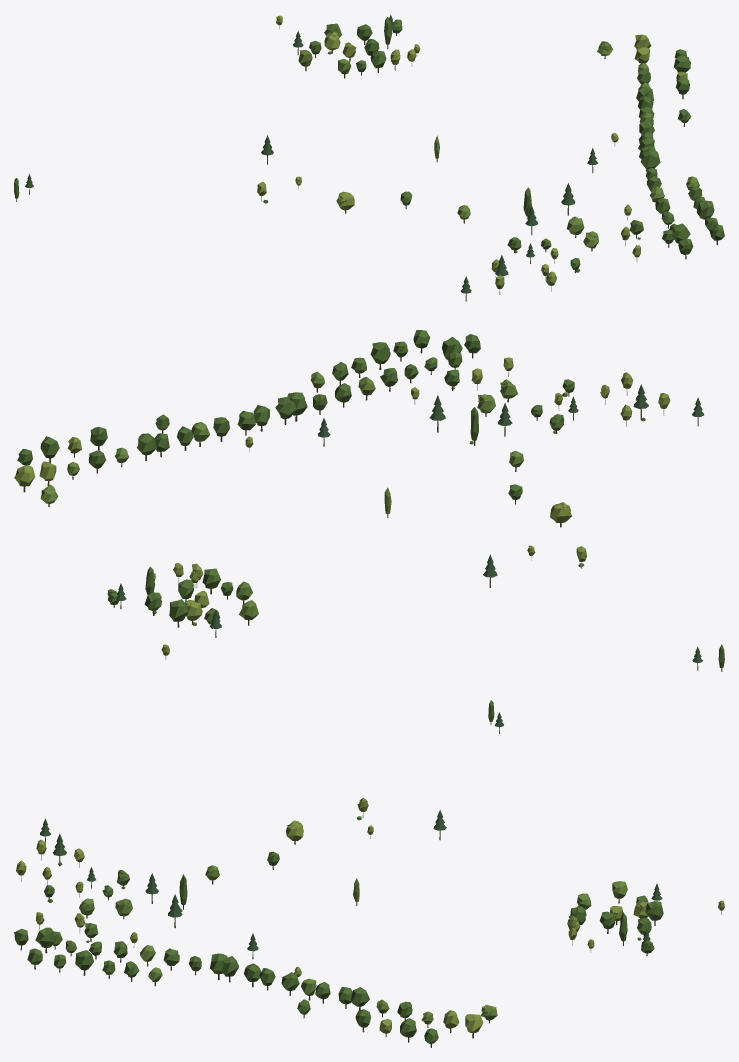
Rendered from Natura_0_0.fbx.
3 renders of one model, top to bottom at view 1: azimuth 30°, elevation 25°; view 2: azimuth 150°, elevation 25°; view 3: azimuth 270°, elevation 25°, orthographic. The views are drawn at different scales.
Bounding box in the file's own units: 329 × 16.79 × 303.
